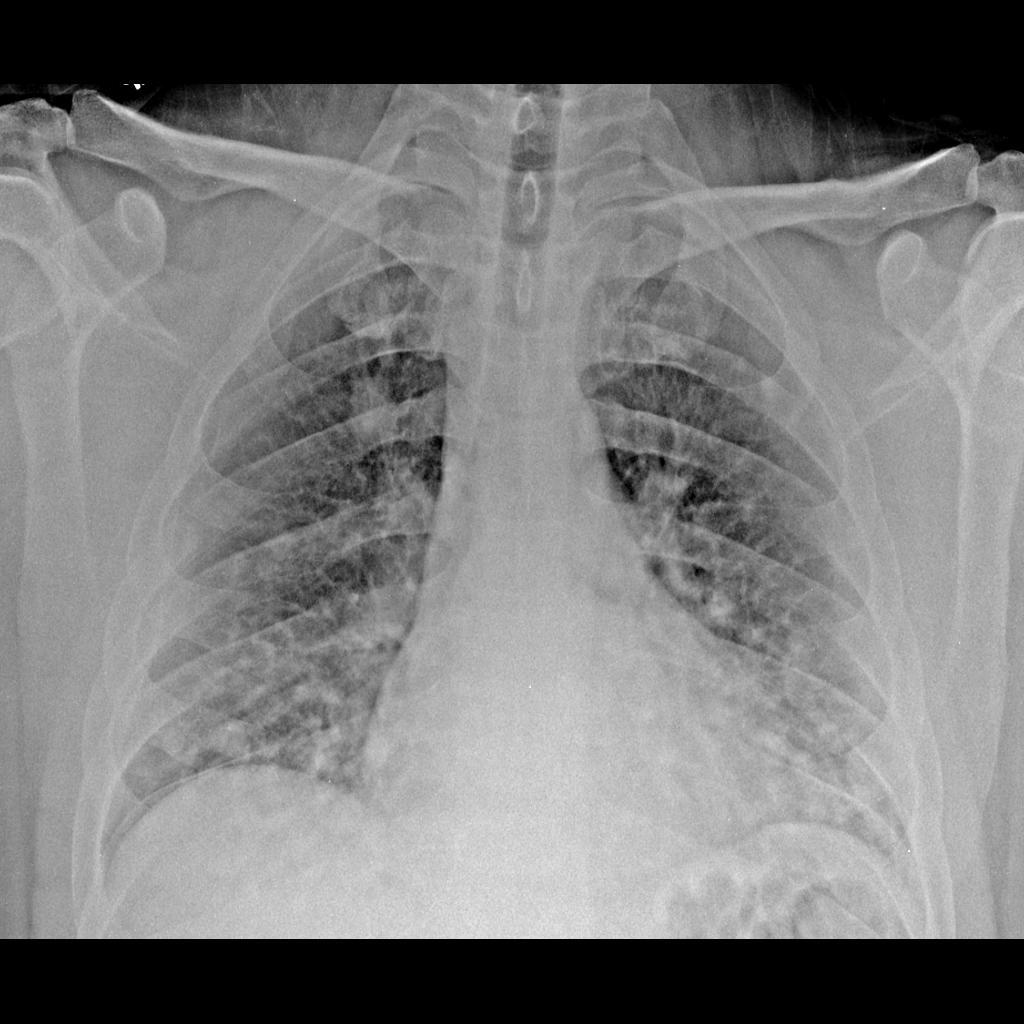Nodule: (351, 373, 405, 452), (198, 713, 267, 764), (698, 581, 746, 634)
